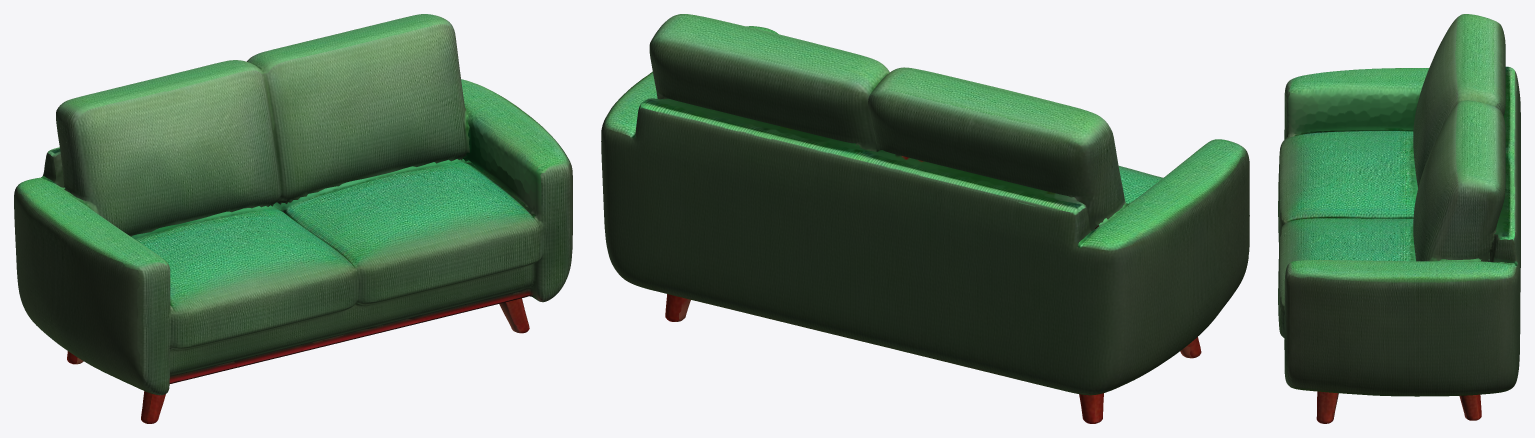
The model's file is couch__couch#1.glb.
The picture shows the model from 3 angles, left to right: view 1: azimuth 30°, elevation 25°; view 2: azimuth 150°, elevation 25°; view 3: azimuth 270°, elevation 25°; orthographic projection. The views are drawn at different scales.
Parts seen in each view (by area): view 1: tmpzlea08ne.ply; view 2: tmpzlea08ne.ply; view 3: tmpzlea08ne.ply.
Boxes of the visible parts, x1,y1,x2,y2 form: tmpzlea08ne.ply: (14, 14, 572, 423); tmpzlea08ne.ply: (601, 14, 1249, 423); tmpzlea08ne.ply: (1278, 14, 1520, 423).
Bounding box in the file's own units: 1.99 × 1.04 × 0.9449.
Materials: 1 (1 with a texture image).
